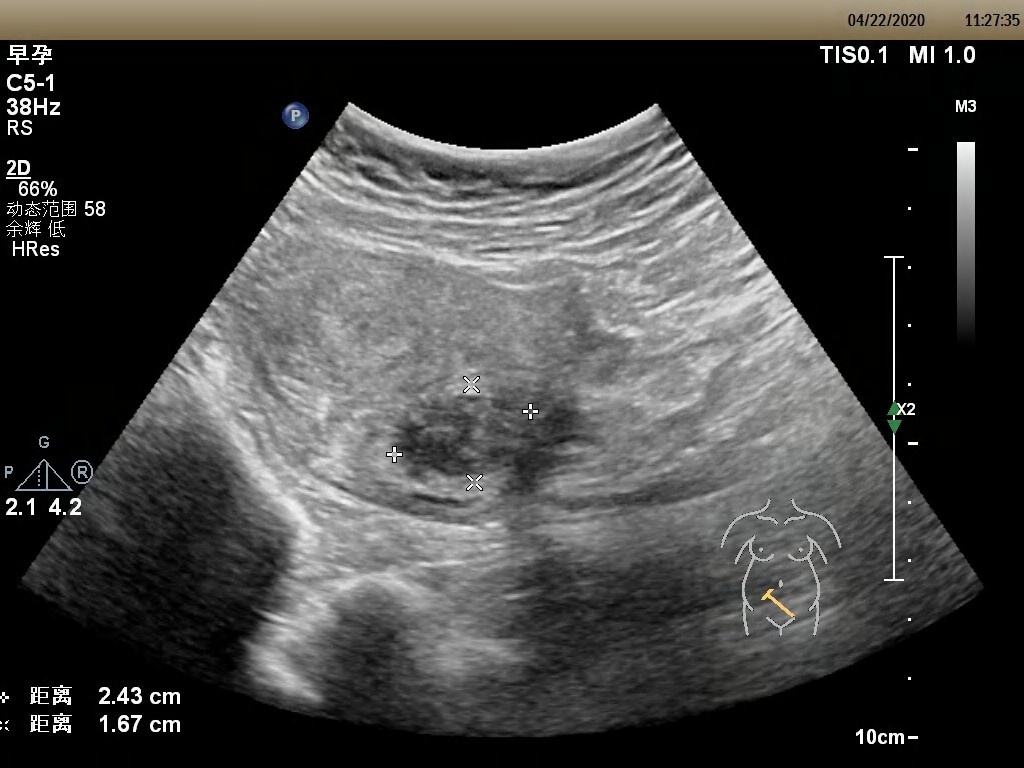肌瘤: (393, 390, 535, 476)
